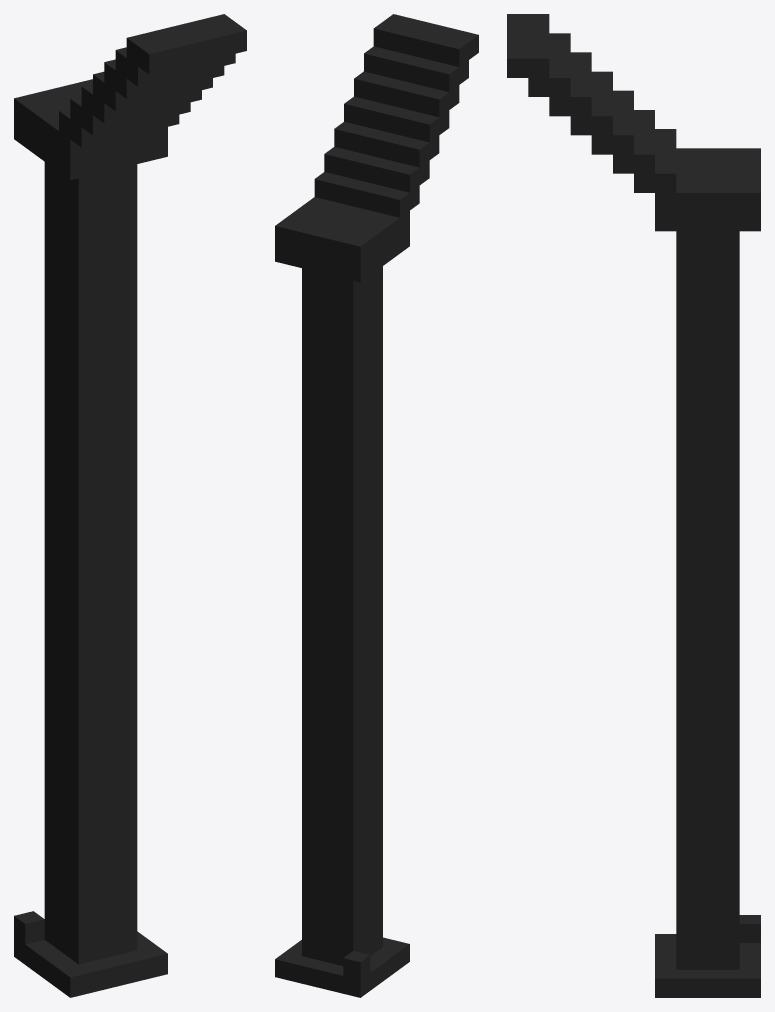
File: lamp-1.obj
The picture shows the model from 3 angles, left to right: view 1: azimuth 30°, elevation 25°; view 2: azimuth 150°, elevation 25°; view 3: azimuth 270°, elevation 25°; orthographic projection. The views are drawn at different scales.
Bounding box in the file's own units: 0.5 × 4.9 × 1.2.
1 material, 1 textured.
